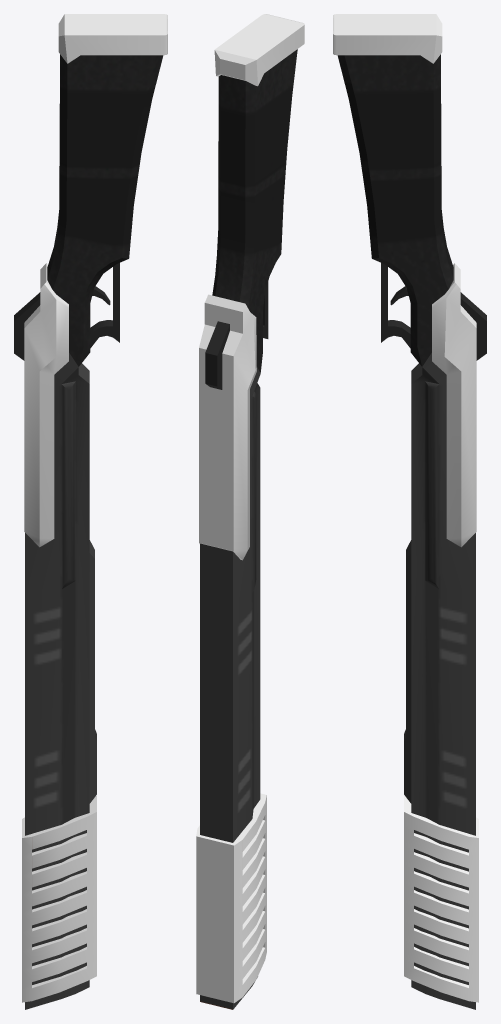
Rendered from Shotgun.fbx.
3 views of the same model, side by side, from view 1: azimuth 90°, elevation 25°; view 2: azimuth 150°, elevation 25°; view 3: azimuth 270°, elevation 25° (orthographic). The views are drawn at different scales.
Visible parts, largest first — view 1: Shotgun; view 2: Shotgun; view 3: Shotgun.
Part boxes in pixels (x1=…): Shotgun: x1=14, y1=14, x2=167, y2=1009; Shotgun: x1=196, y1=14, x2=304, y2=1009; Shotgun: x1=333, y1=14, x2=486, y2=1009.
Size of the model in its own units: 7.87 by 147 by 21.
